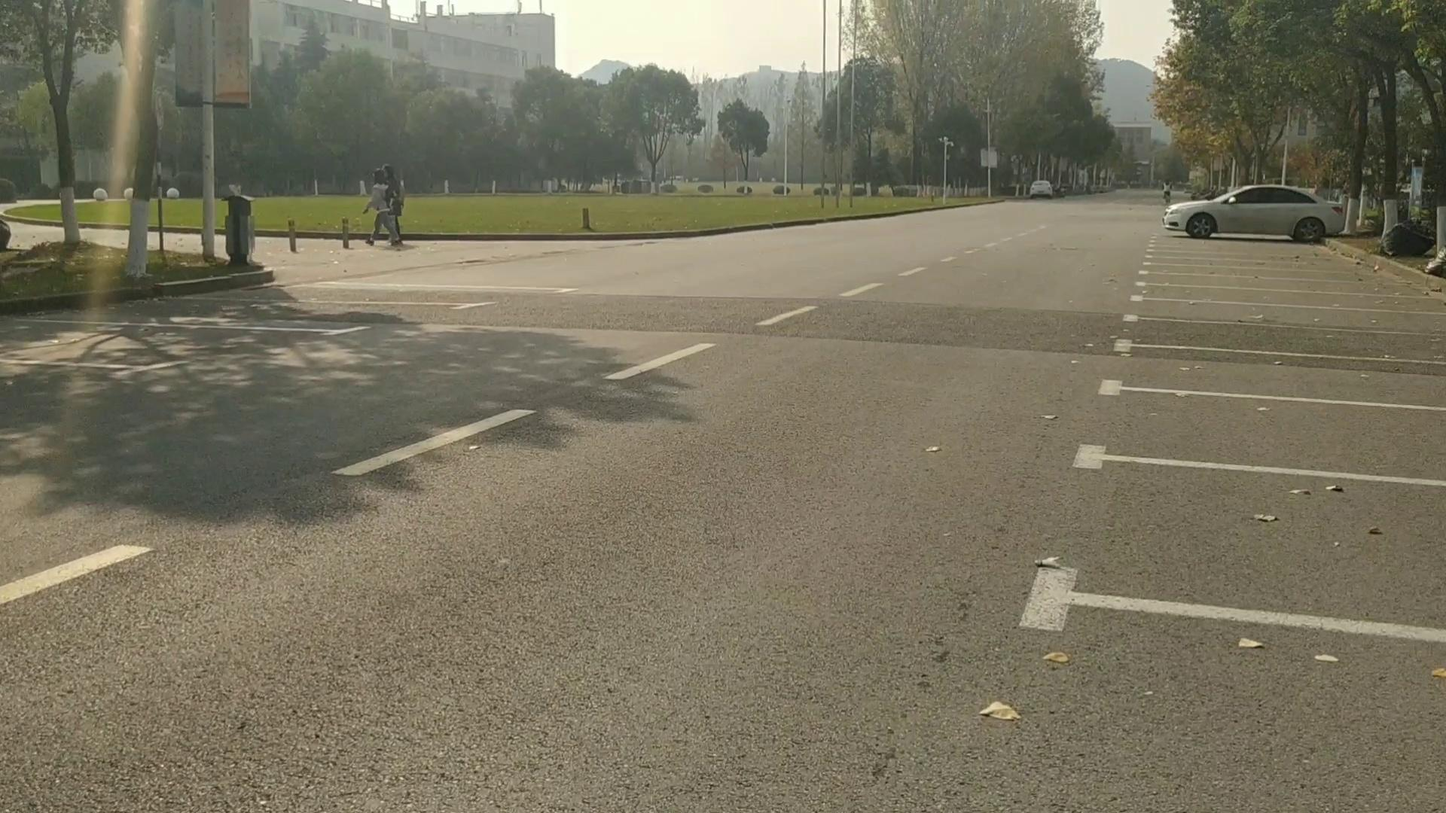car: (1162, 184, 1347, 242), (1028, 178, 1057, 196), (679, 179, 715, 193)
